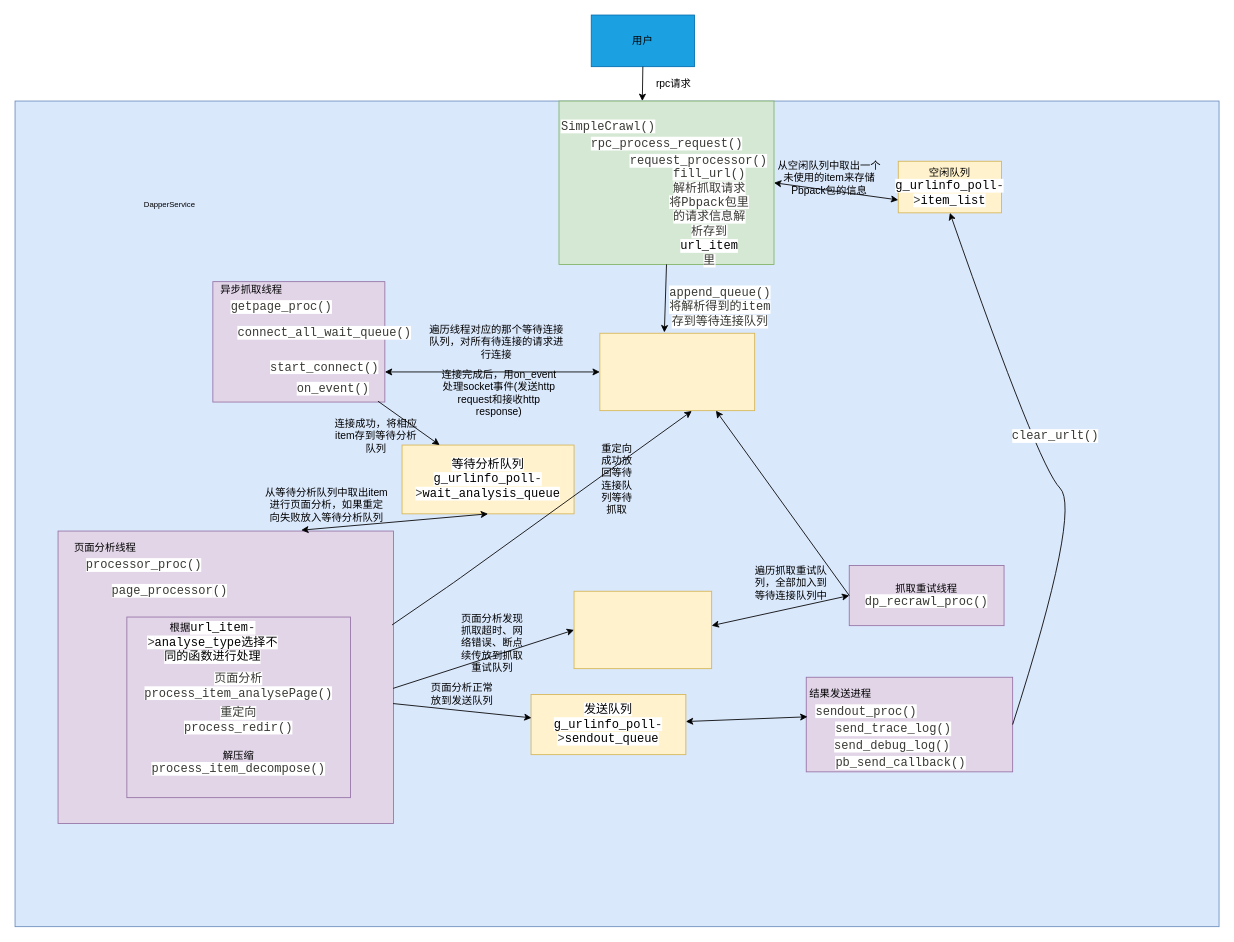
Image size: 1234x942. Some labels were removed from this diagram. Here are the shapes that lost their labels. From the top down, the centre of each, then its label:
pixel 677 371: 等待连接队列g_urlinfo_poll -> wait_conn_queue
pixel 642 629: 抓取重试队列g_urlinfo_poll -> wait_retry_queues
